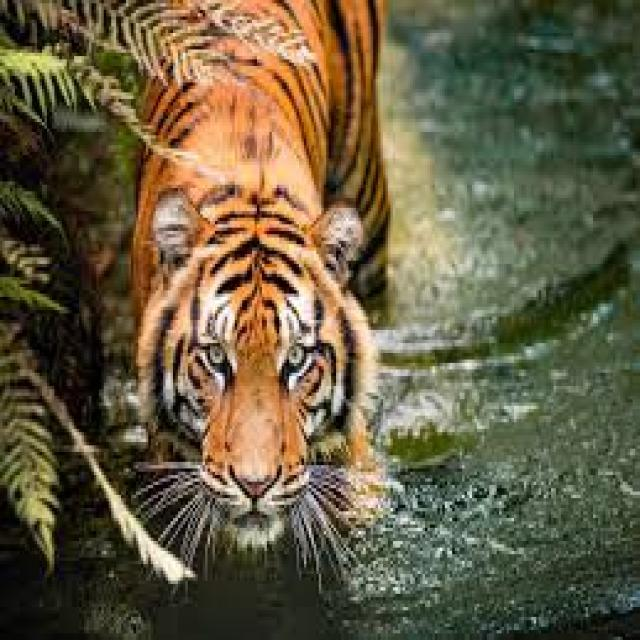Tiger: (0, 0, 395, 594)
